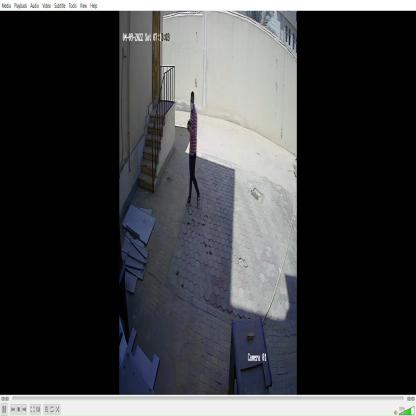handgun: (185, 114, 192, 134)
